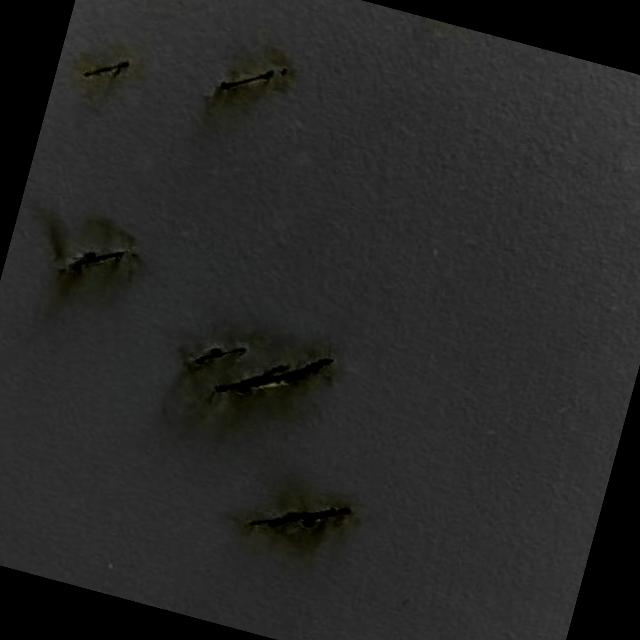crack: (213, 335, 319, 416), (255, 484, 348, 545), (64, 235, 133, 287), (218, 56, 279, 104), (190, 328, 247, 372), (77, 52, 127, 84)
